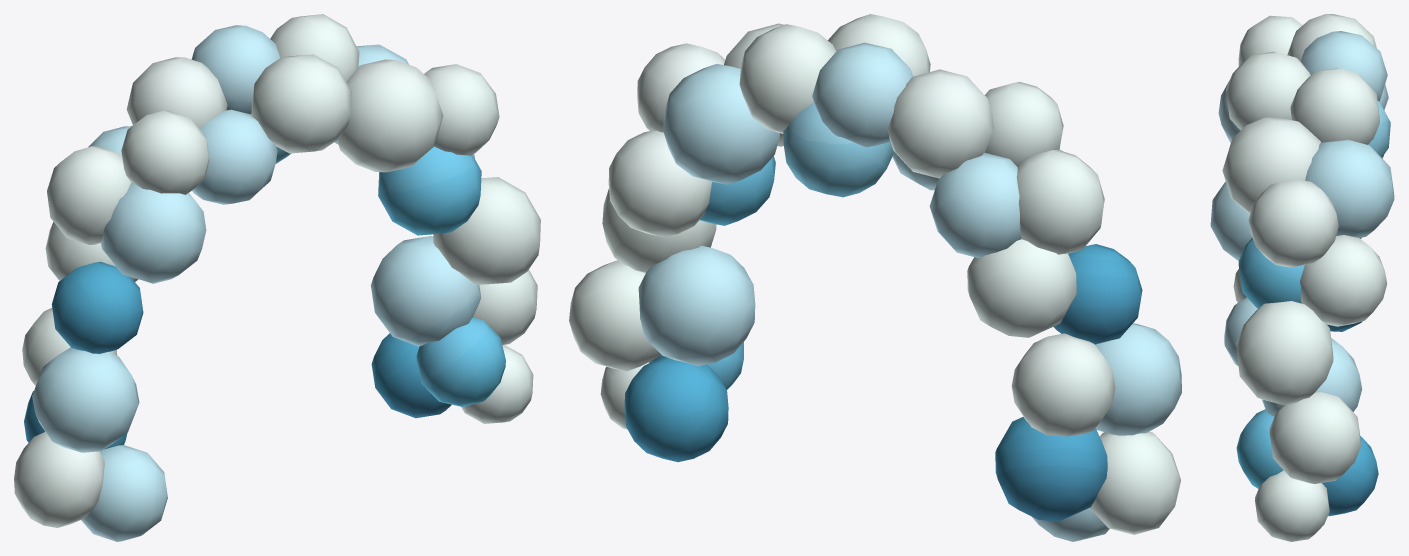
File: Prop_BalloonArch.glb
3 renders of one model, left to right at view 1: azimuth 30°, elevation 25°; view 2: azimuth 150°, elevation 25°; view 3: azimuth 270°, elevation 25°, orthographic. The views are drawn at different scales.
Parts seen in each view (by area): view 1: Prop_BalloonArch; view 2: Prop_BalloonArch; view 3: Prop_BalloonArch.
Part boxes in pixels (<box>): Prop_BalloonArch: <box>14,14,540,541</box>; Prop_BalloonArch: <box>569,14,1181,541</box>; Prop_BalloonArch: <box>1210,14,1394,541</box>.
Bounding box in the file's own units: 34.74 × 27.67 × 11.21.
Materials: 1 (1 with a texture image).
